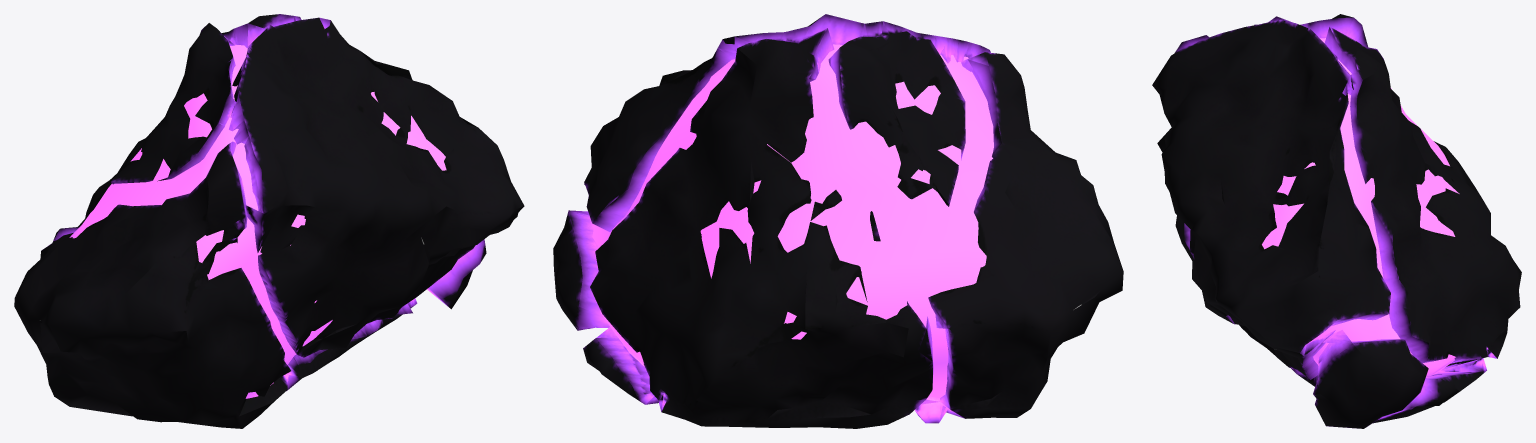
File: piedra_sombra.fbx
3 views of the same model, side by side, from view 1: azimuth 30°, elevation 25°; view 2: azimuth 150°, elevation 25°; view 3: azimuth 270°, elevation 25° (orthographic). The views are drawn at different scales.
Visible parts, largest first — view 1: piedra_sombra, piedra_sombra_neon; view 2: piedra_sombra, piedra_sombra_neon; view 3: piedra_sombra, piedra_sombra_neon.
Part boxes in pixels (x1,y1,x2,y2): piedra_sombra: (14, 14, 524, 428); piedra_sombra_neon: (69, 44, 446, 398); piedra_sombra: (553, 14, 1123, 428); piedra_sombra_neon: (592, 44, 993, 398); piedra_sombra: (1152, 14, 1521, 428); piedra_sombra_neon: (1262, 38, 1459, 376).
Bounding box in the file's own units: 2.64 × 1.79 × 1.89.
2 materials, 2 textured.
